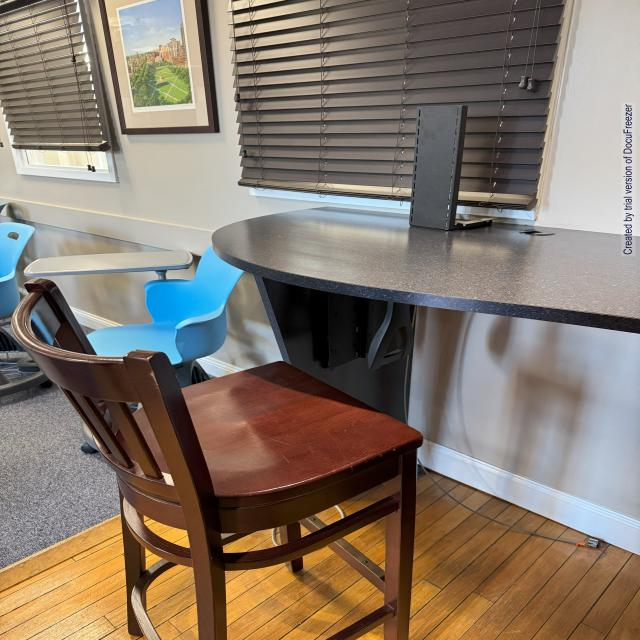chair: (15, 272, 427, 640)
